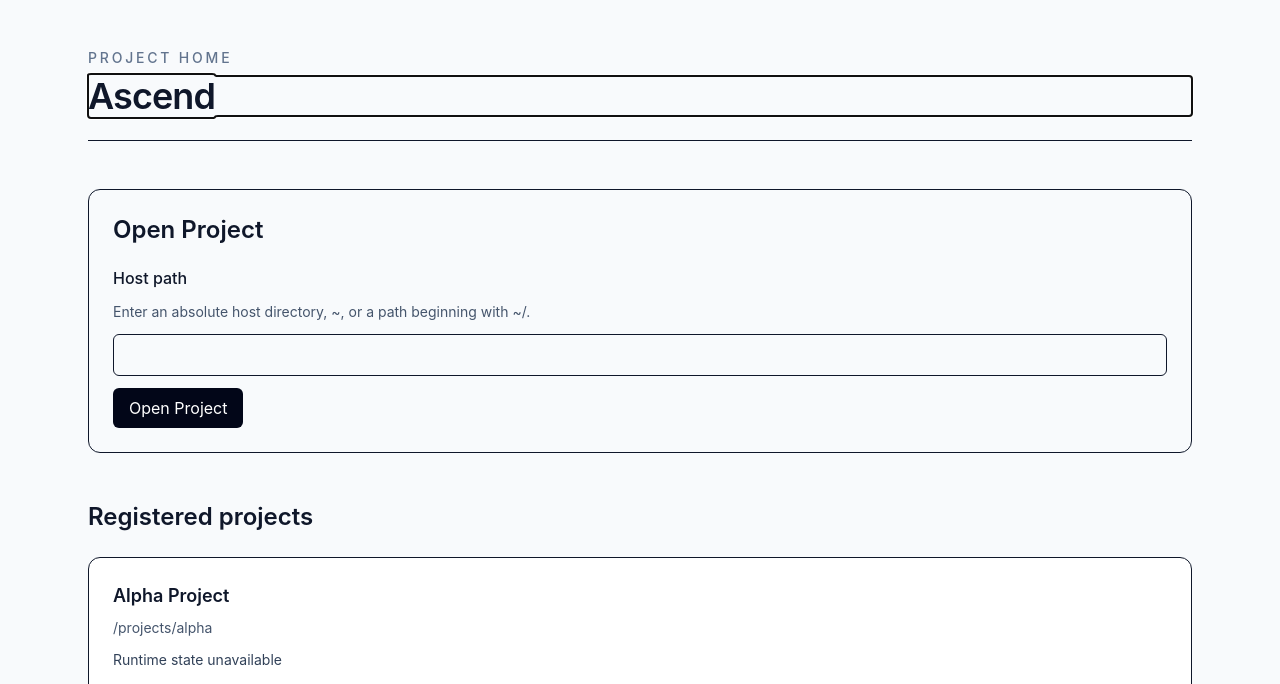
Test: Project Home open interaction › renders typed path_not_found as a preserved associated correction
The width and height of the screenshot is (1280, 684).
Type "/exact host path" into the field labelled "Host path" at coordinates (640, 355), box [113, 334, 1167, 376]
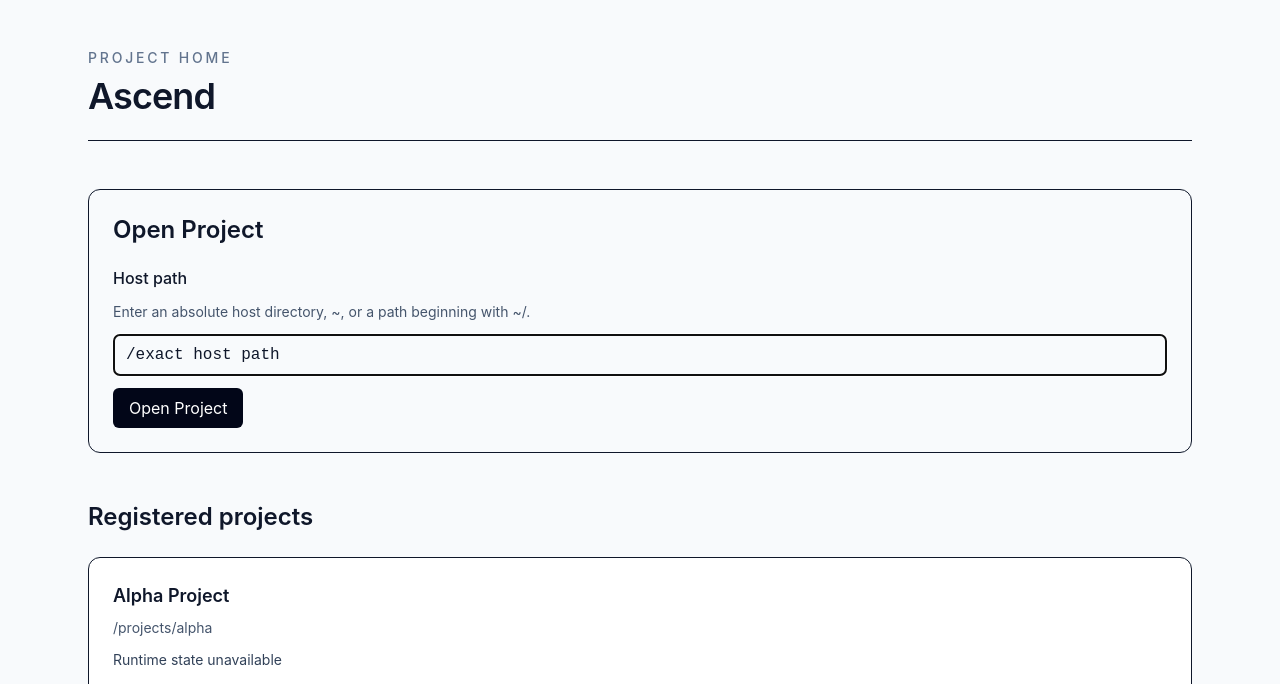
Click the button "Open Project" at coordinates (178, 408), box [113, 388, 244, 428]
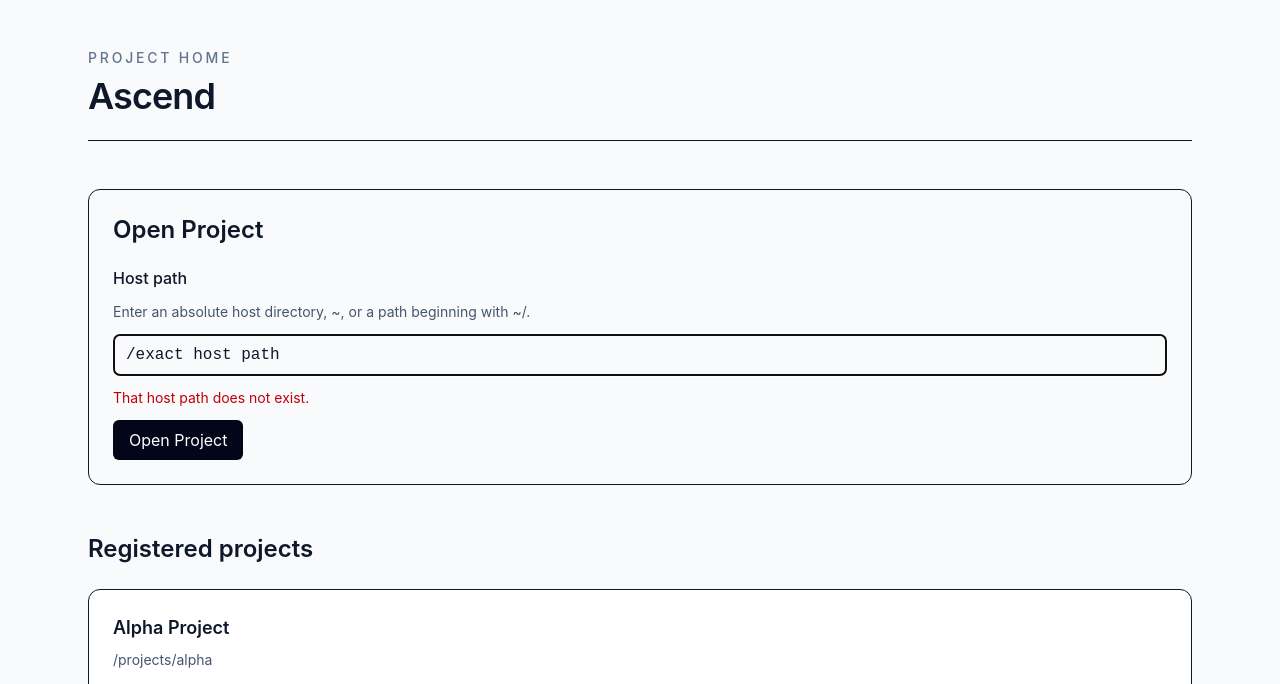
Result: the message reads "That host path does not exist." at [113, 389, 309, 406]
